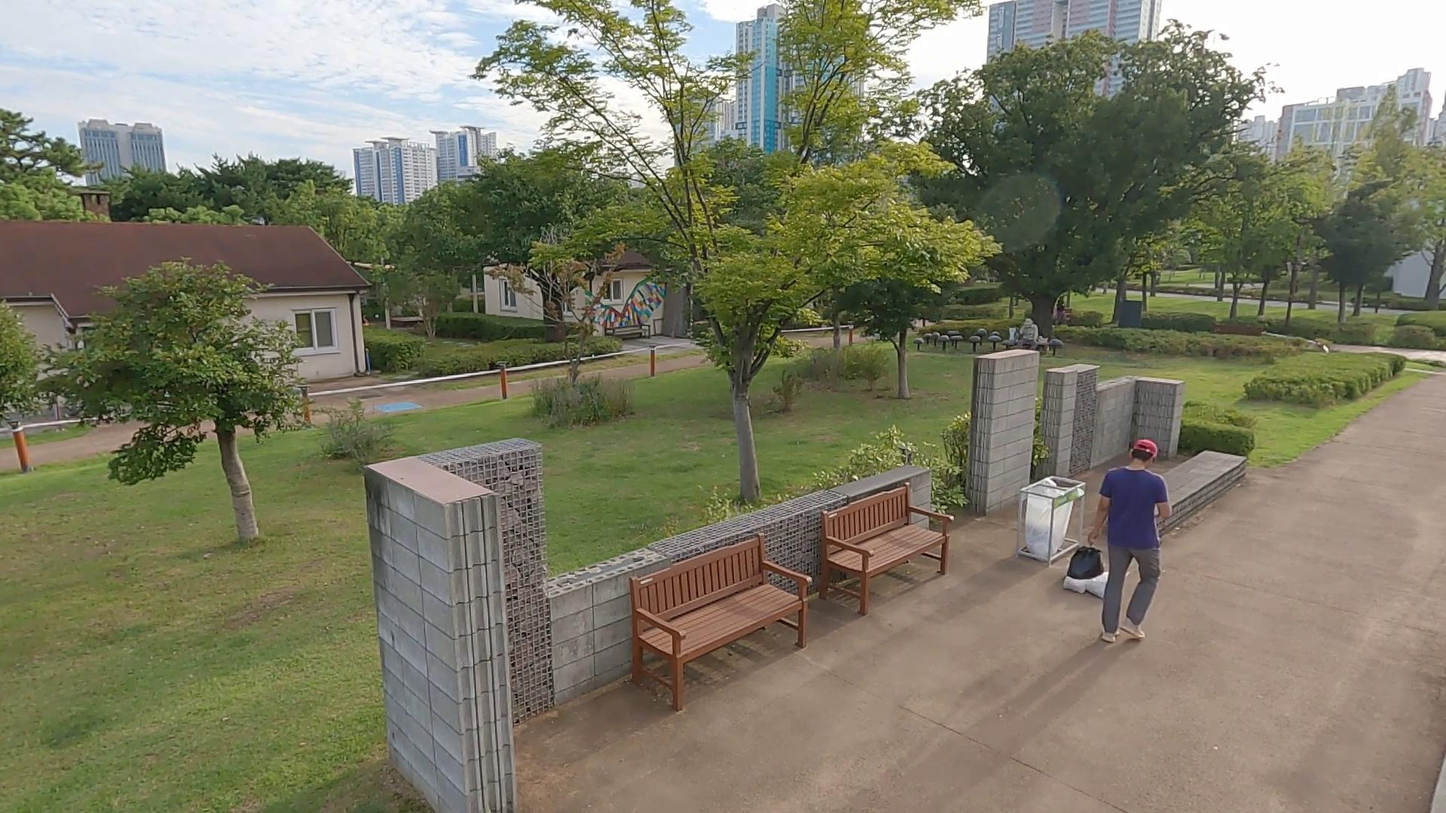person: (1088, 435, 1172, 656), (1016, 318, 1040, 349)
trash: (1066, 543, 1104, 579), (1061, 562, 1090, 599), (1085, 564, 1112, 600)
